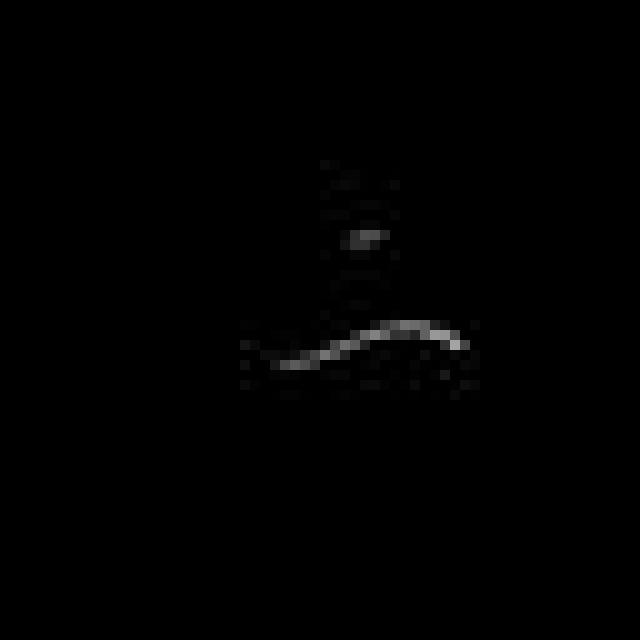2 -two-: (264, 210, 474, 398)
